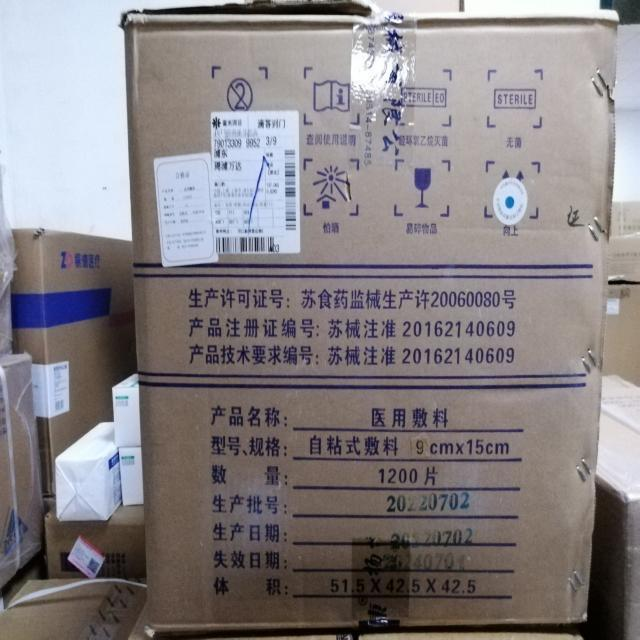box: (122, 11, 606, 624), (1, 225, 140, 490), (590, 369, 640, 640), (44, 500, 152, 582), (56, 418, 120, 524), (596, 276, 640, 385), (109, 369, 148, 442)
